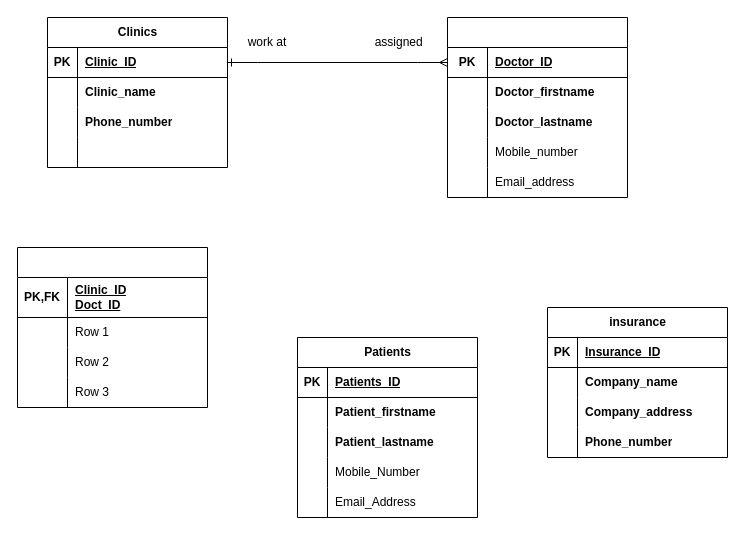
Image size: 745x535. Some labels were removed from this diagram. Here are the shapes that lost their labels. From the top down, the box of each, then its label:
(446, 16, 628, 198): Doctors
(16, 246, 208, 408): DoctorManager
